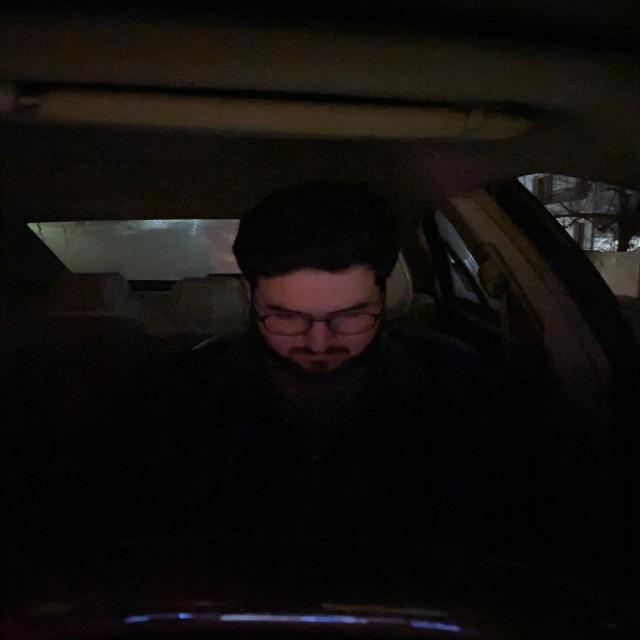drowsy: (230, 182, 412, 387)
